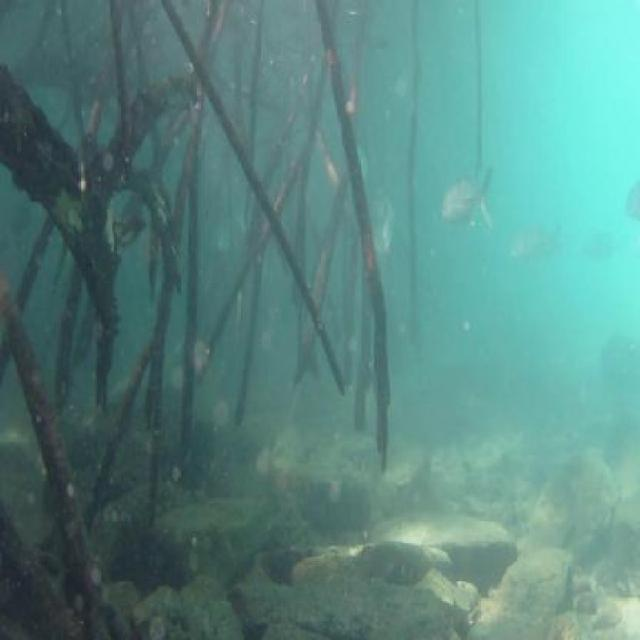Caranx_sexfasciatus_juvenile: (440, 167, 502, 244), (511, 218, 567, 279), (620, 182, 640, 232)
